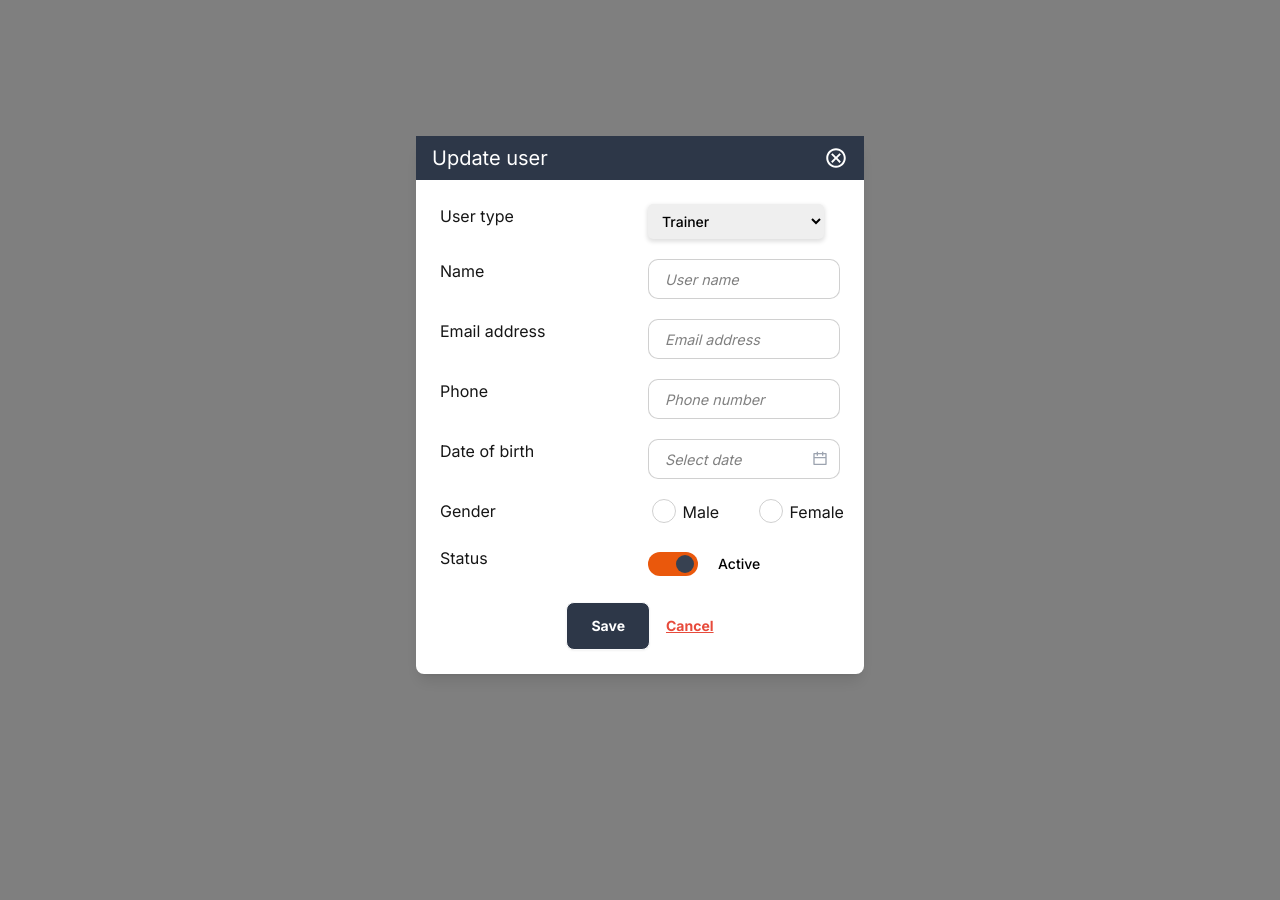
Test: UpdateUserModal › Should throw an error if the input format is wrong
Select "Admin" in the dropdown at (736, 222), box x1=648 y1=204 x2=824 y2=239
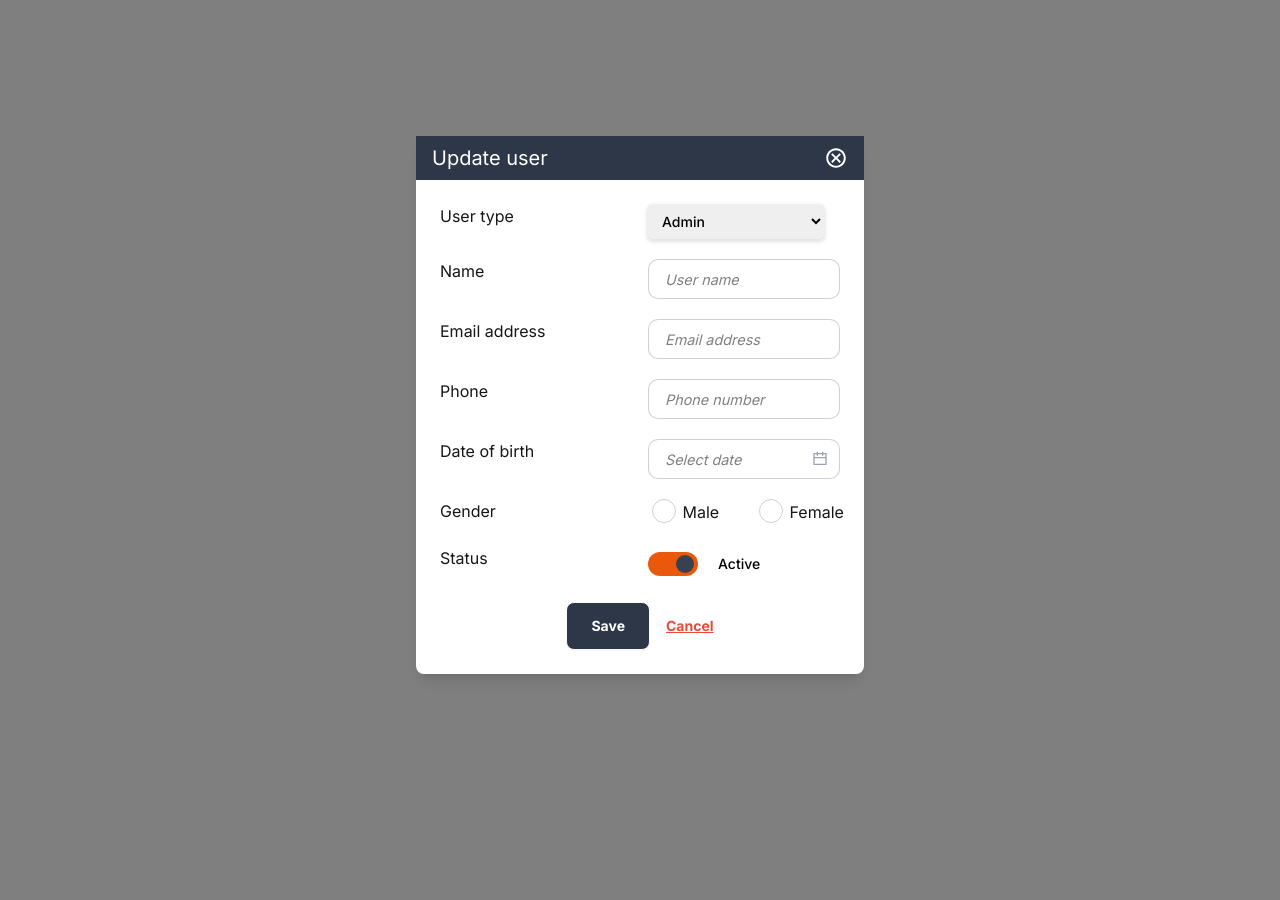
Type "test" into the field named "phone_number" at (744, 399), box x1=648 y1=379 x2=840 y2=419
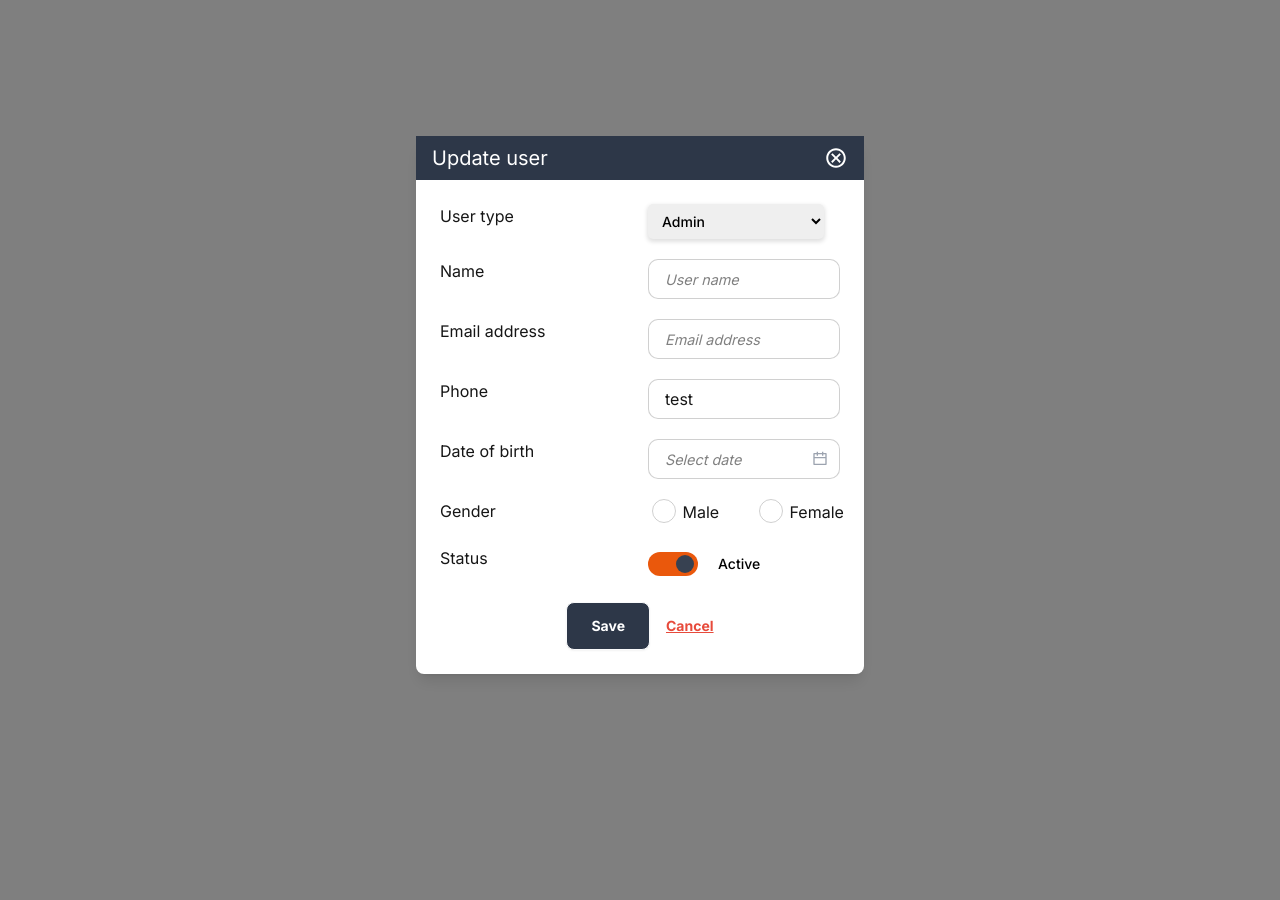
Click the button "Save" at (608, 626), box x1=566 y1=602 x2=650 y2=650
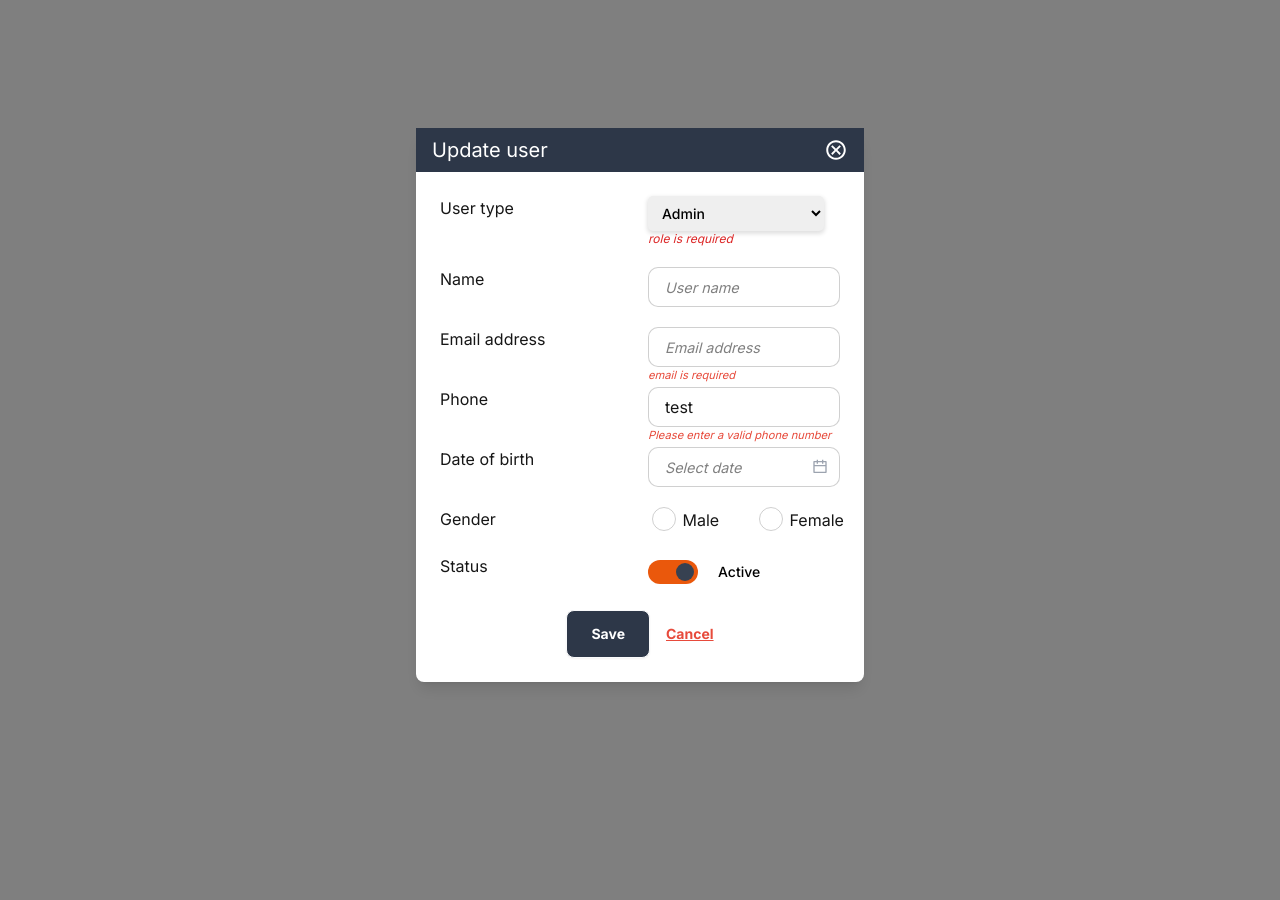
Expected: the text "Please enter a valid phone number" is shown, x1=648 y1=427 x2=840 y2=444
